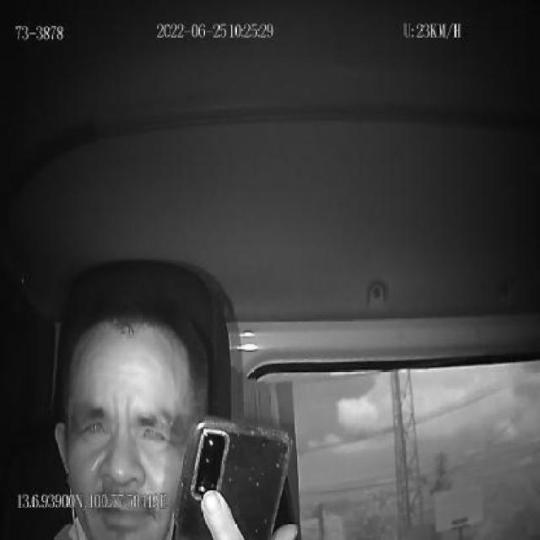phone: (175, 417, 291, 540)
